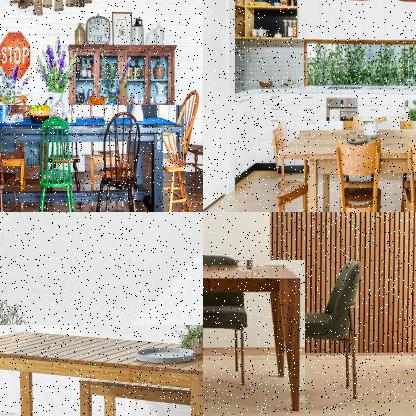table: (0, 105, 188, 211), (0, 325, 202, 415), (203, 260, 307, 416), (278, 121, 415, 211)
